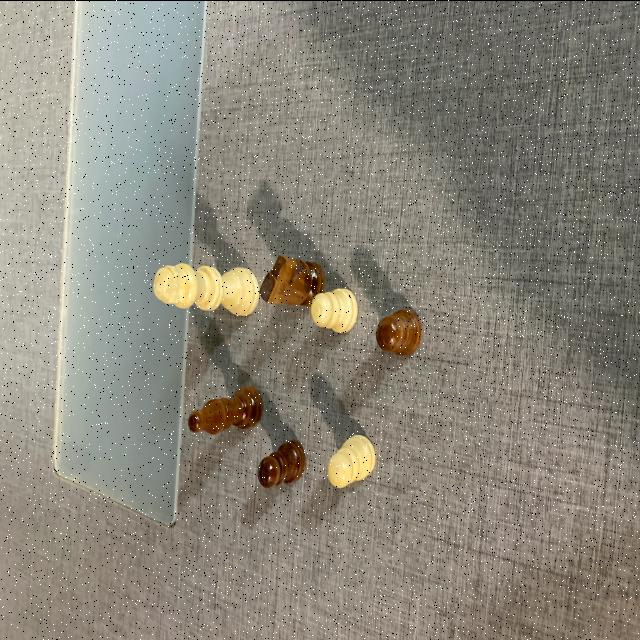Black-Bishop: (186, 382, 264, 436)
Black-Knight: (258, 251, 326, 308)
Black-Pawn: (256, 438, 306, 488), (375, 305, 423, 357)
White-King: (153, 259, 259, 317)
White-Pawn: (326, 430, 376, 490), (309, 286, 359, 334)
